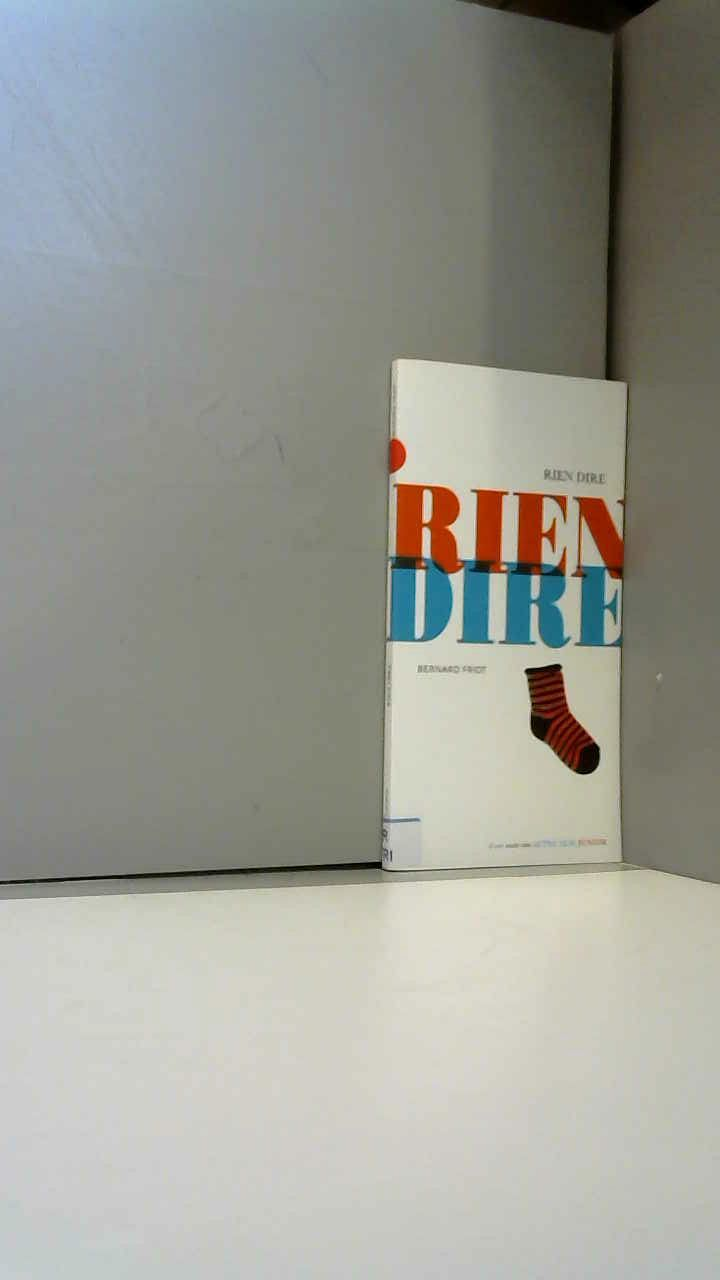book: (367, 340, 640, 890)
